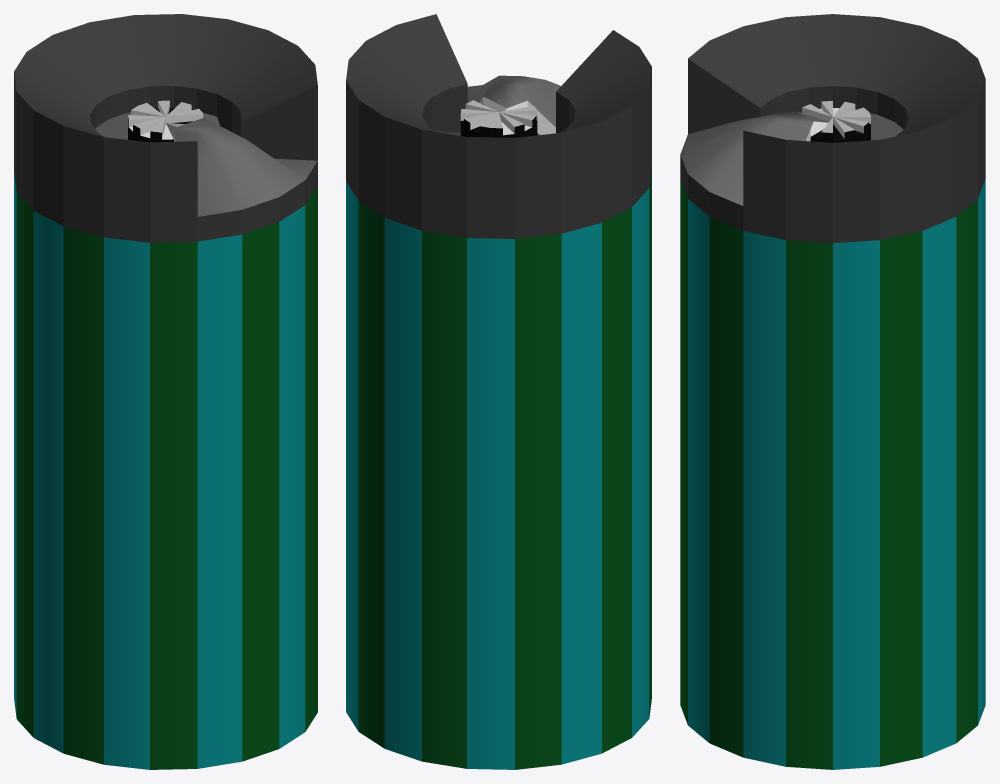
File: SM_Deodorant.fbx
The picture shows the model from 3 angles, left to right: view 1: azimuth 30°, elevation 25°; view 2: azimuth 150°, elevation 25°; view 3: azimuth 270°, elevation 25°; orthographic projection.
Parts seen in each view (by area): view 1: pCylinder1; view 2: pCylinder1; view 3: pCylinder1.
Boxes of the visible parts, <box> form: pCylinder1: <box>14,14,317,769</box>; pCylinder1: <box>346,14,651,769</box>; pCylinder1: <box>680,14,985,769</box>.
Bounding box in the file's own units: 41.97 × 95.17 × 41.97.
